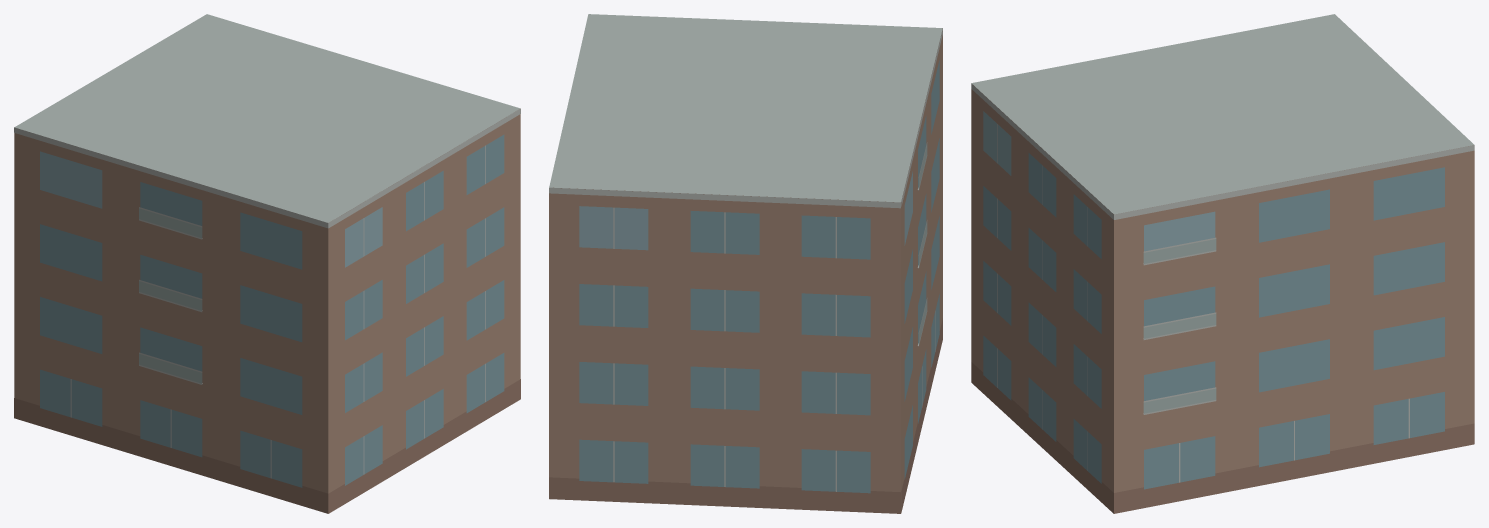
The model's file is survey-upis-32724175.glb.
The picture shows the model from 3 angles, left to right: view 1: azimuth 30°, elevation 25°; view 2: azimuth 150°, elevation 25°; view 3: azimuth 270°, elevation 25°; orthographic projection. The views are drawn at different scales.
Visible parts, largest first — view 1: survey-upis-32724175.tmp; view 2: survey-upis-32724175.tmp; view 3: survey-upis-32724175.tmp.
Boxes of the visible parts, bbox=[...] form: survey-upis-32724175.tmp: bbox=[14, 14, 520, 513]; survey-upis-32724175.tmp: bbox=[549, 14, 942, 513]; survey-upis-32724175.tmp: bbox=[971, 14, 1474, 513].
Bounding box in the file's own units: 18.69 × 13 × 19.82.
